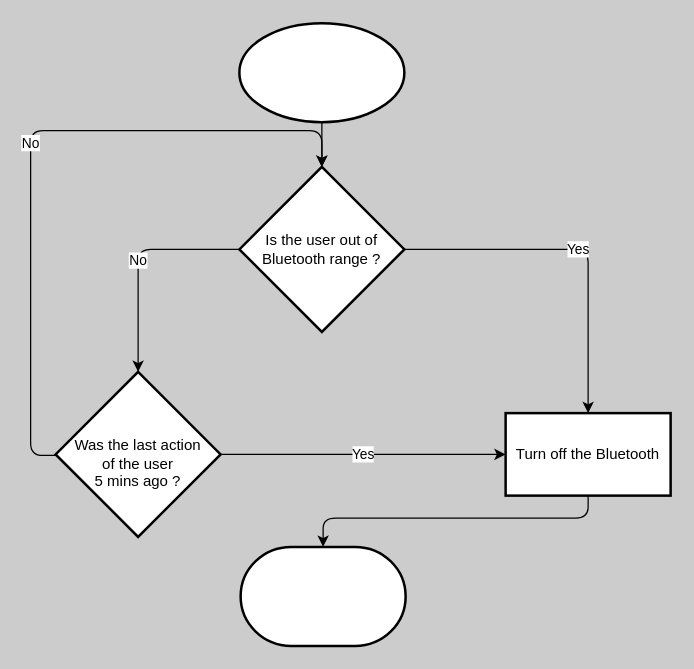
This 694x669 diagram has some shape labels left out. Each missing label, with the centre of its shape:
"End" goes at [322,595].
"Start" goes at [321,72].
